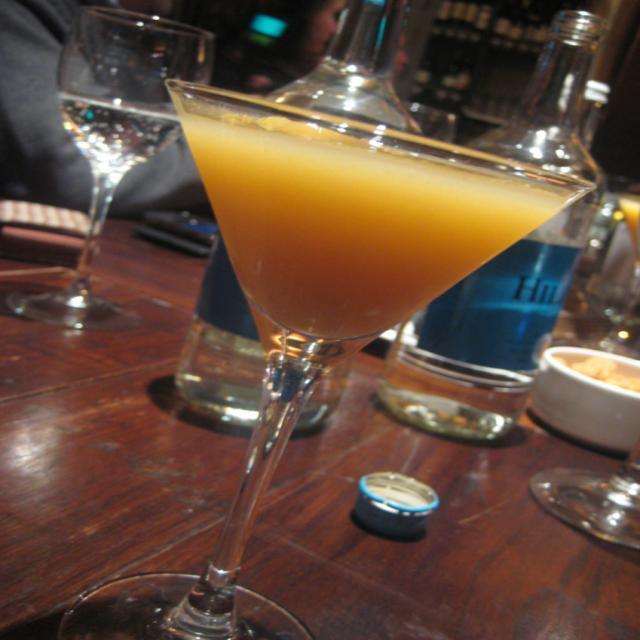Juice: (156, 73, 580, 423)
